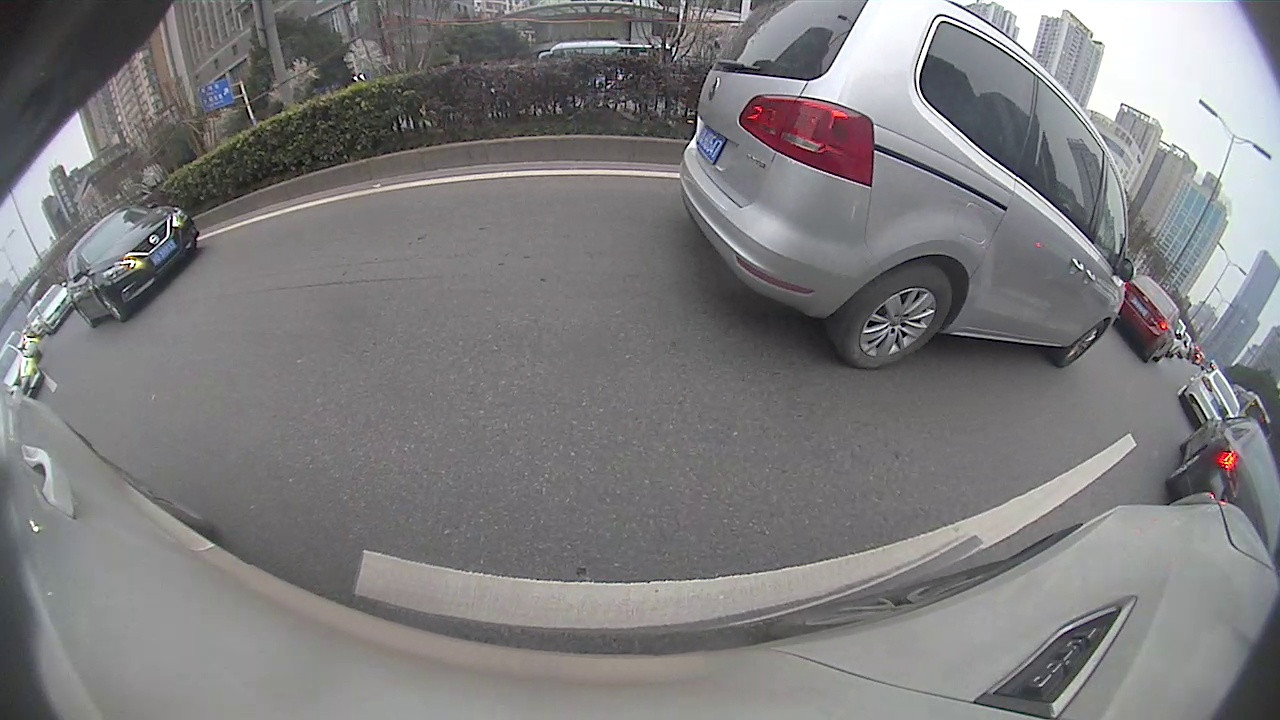car: (677, 1, 1135, 372), (1164, 402, 1279, 562), (63, 204, 203, 328), (1117, 274, 1184, 365), (1178, 367, 1247, 428), (0, 343, 45, 400)
front: (1057, 319, 1111, 368)
rear: (839, 266, 953, 371)
